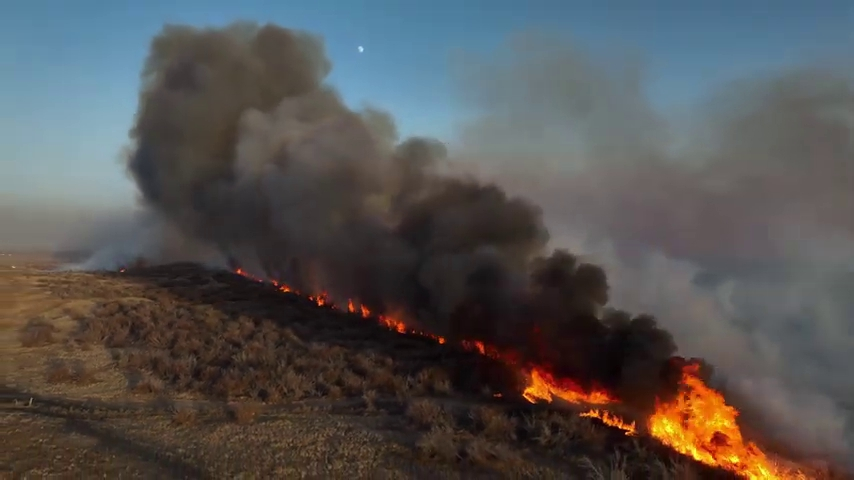forest_fire: (643, 362, 806, 476), (460, 339, 637, 434), (346, 300, 446, 341), (270, 281, 336, 308), (235, 267, 263, 281)
